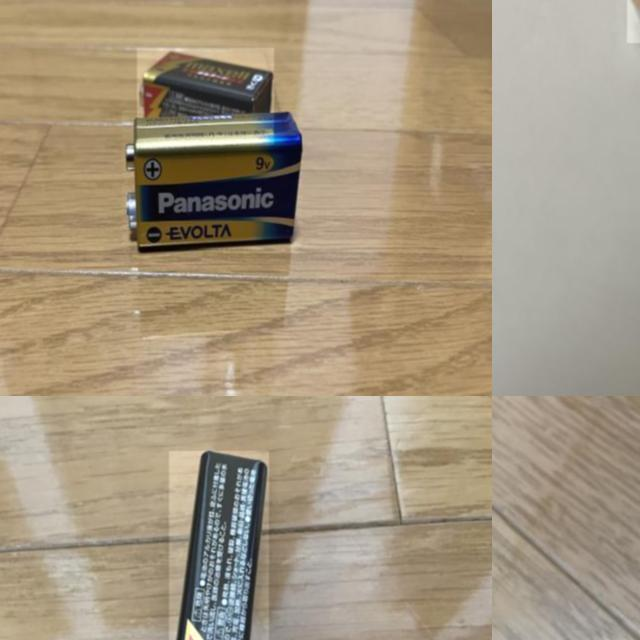9V: (122, 112, 302, 250), (169, 451, 268, 640), (137, 48, 274, 146)
